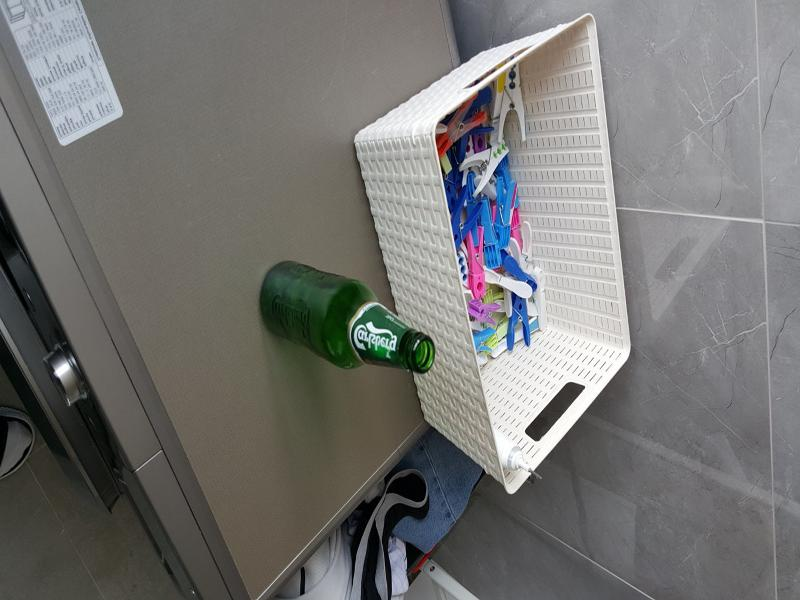Beer: (259, 260, 435, 372)
